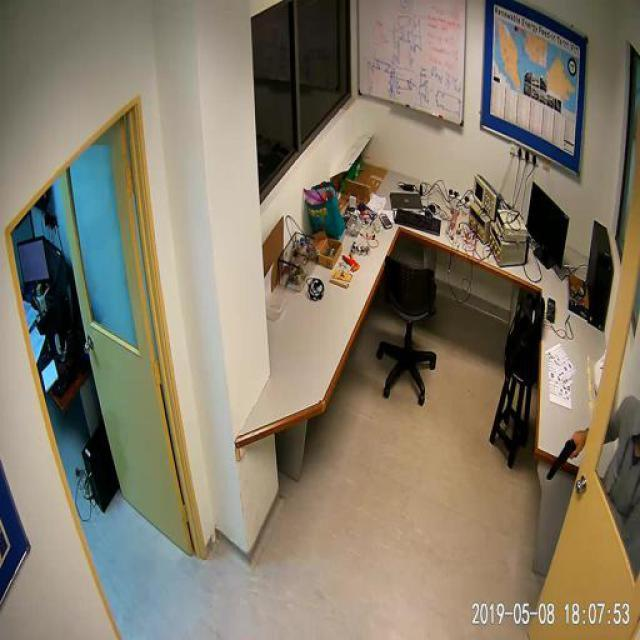weapon: (544, 438, 580, 481)
